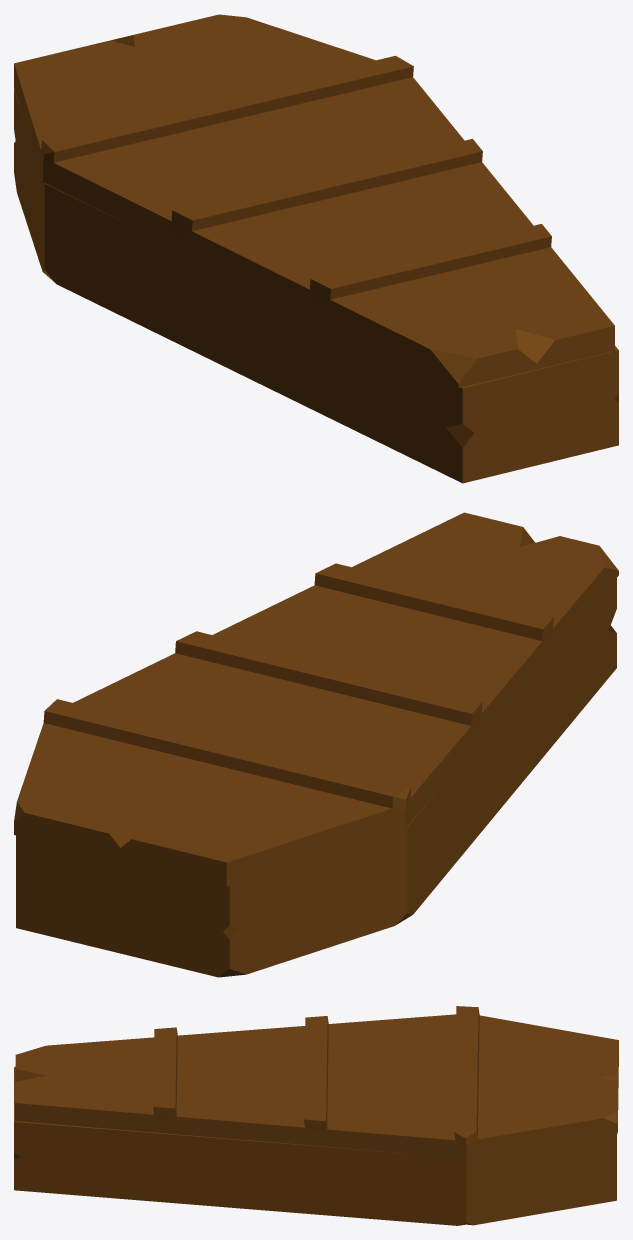
Rendered from Coffin.fbx.
The picture shows the model from 3 angles, top to bottom: view 1: azimuth 30°, elevation 25°; view 2: azimuth 150°, elevation 25°; view 3: azimuth 270°, elevation 25°; orthographic projection. The views are drawn at different scales.
Parts seen in each view (by area): view 1: Coffin_Top, Coffin_Bottom; view 2: Coffin_Top, Coffin_Bottom; view 3: Coffin_Top, Coffin_Bottom.
Part boxes in pixels (x1,y1,x2,y2): Coffin_Top: [14, 14, 614, 387]; Coffin_Bottom: [14, 88, 618, 483]; Coffin_Top: [14, 512, 618, 887]; Coffin_Bottom: [16, 578, 616, 977]; Coffin_Top: [15, 1006, 618, 1159]; Coffin_Bottom: [14, 1067, 616, 1225].
Bounding box in the file's own units: 200 × 69.13 × 401.
